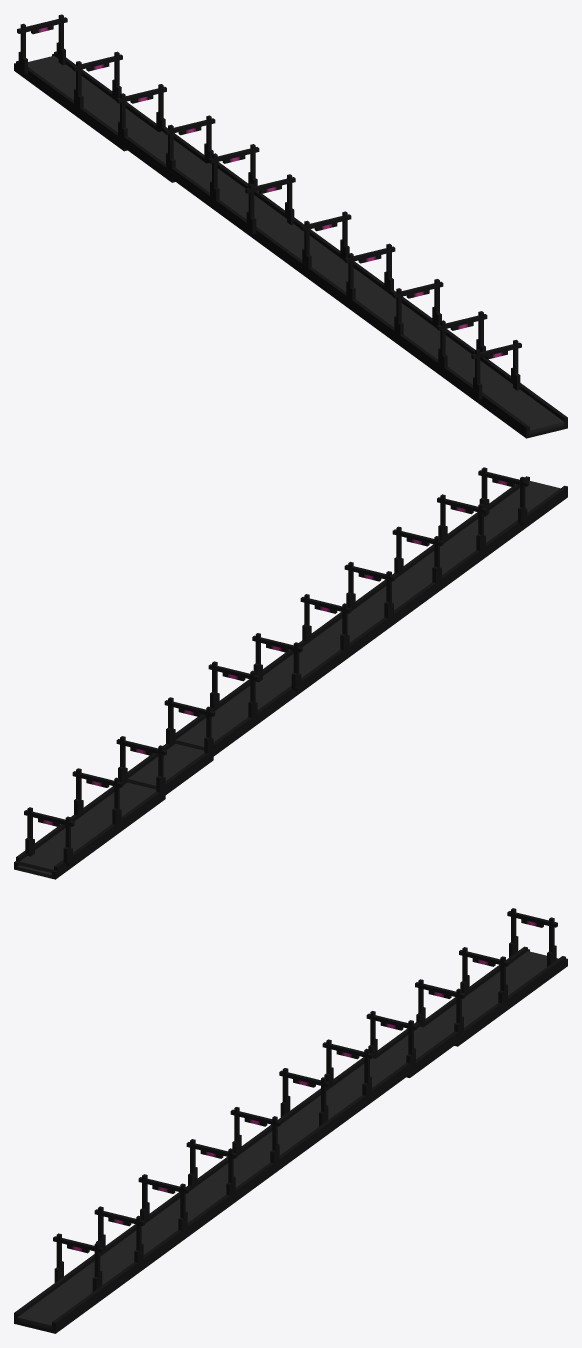
File: CityBackground-0-CityBridge.fbx
3 renders of one model, top to bottom at view 1: azimuth 30°, elevation 25°; view 2: azimuth 150°, elevation 25°; view 3: azimuth 330°, elevation 25°, orthographic.
Parts seen in each view (by area): view 1: CityBridge; view 2: CityBridge; view 3: CityBridge.
Boxes of the visible parts, <box> form: CityBridge: <box>14,14,567,438</box>; CityBridge: <box>14,467,567,879</box>; CityBridge: <box>14,908,567,1333</box>.
Size of the model in its own units: 15 by 17 by 256.
